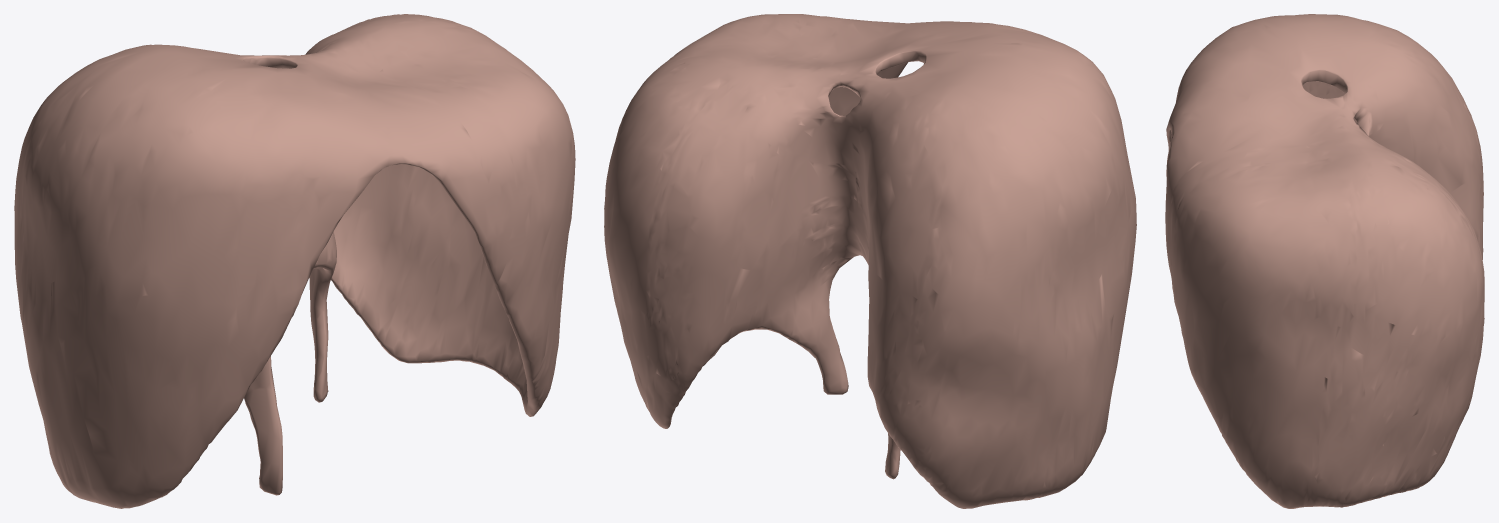
File: diaphragm.glb
3 renders of one model, left to right at view 1: azimuth 30°, elevation 25°; view 2: azimuth 150°, elevation 25°; view 3: azimuth 270°, elevation 25°, orthographic. The views are drawn at different scales.
Parts seen in each view (by area): view 1: world; view 2: world; view 3: world.
Boxes of the visible parts, box(x1,y1,x2,y2) form: world: box(14, 14, 575, 508); world: box(604, 14, 1136, 508); world: box(1165, 14, 1484, 508).
Bounding box in the file's own units: 2 × 1.78 × 1.35.
